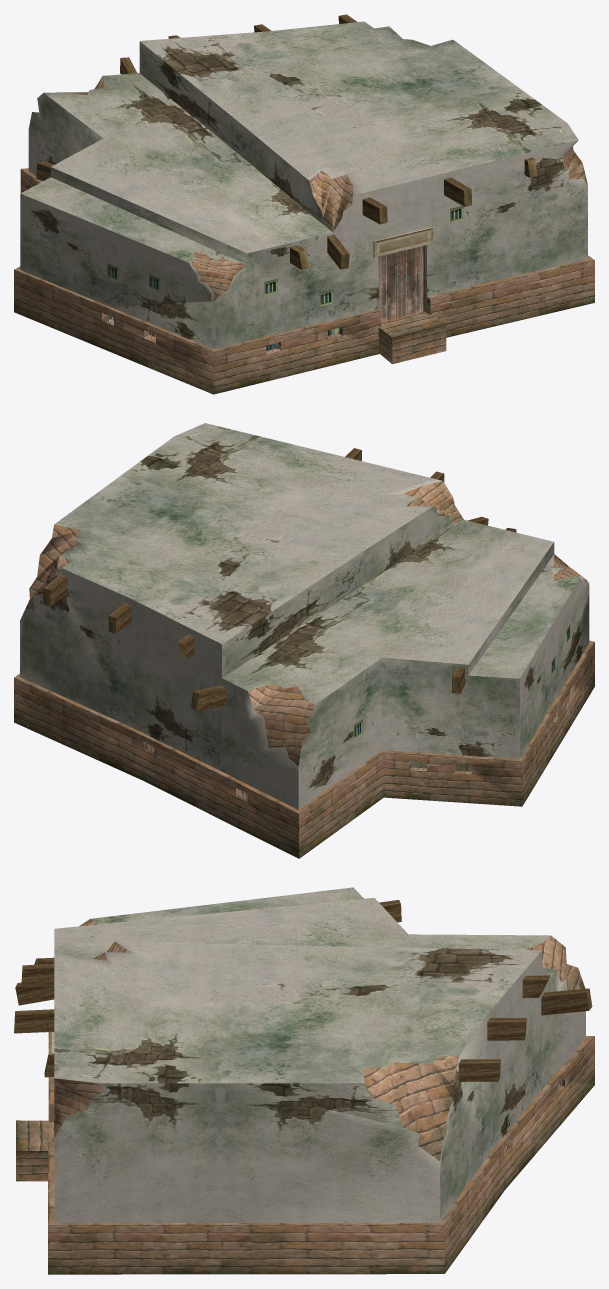
Rendered from pir_m_bld_spn_jail_destroyed.fbx.
3 views of the same model, one above another, from view 1: azimuth 30°, elevation 25°; view 2: azimuth 150°, elevation 25°; view 3: azimuth 270°, elevation 25° (orthographic). The views are drawn at different scales.
Parts seen in each view (by area): view 1: building_exterior.001, jail_exteriorbase, door_left, base02, beam_15, beam_8, beam_10, beam_9; view 2: building_exterior.001, jail_exteriorbase, beam_6, beam_5; view 3: building_exterior.001, jail_exteriorbase, base02, beam_6, beam_5, beam_8, beam_4, beam_9, beam_10, beam_3.
Boxes of the visible parts, x1,y1,x2,y2 form: building_exterior.001: [20, 21, 587, 349]; jail_exteriorbase: [14, 168, 594, 394]; door_left: [378, 245, 424, 321]; base02: [378, 311, 446, 363]; beam_15: [373, 227, 433, 257]; beam_8: [444, 177, 472, 206]; beam_10: [327, 234, 349, 269]; beam_9: [362, 197, 387, 224]; building_exterior.001: [20, 423, 589, 809]; jail_exteriorbase: [14, 640, 594, 858]; beam_6: [191, 685, 226, 710]; beam_5: [43, 574, 67, 606]; building_exterior.001: [54, 887, 585, 1223]; jail_exteriorbase: [48, 1032, 594, 1274]; base02: [16, 1120, 54, 1181]; beam_6: [541, 988, 592, 1015]; beam_5: [458, 1059, 500, 1081]; beam_8: [14, 1009, 54, 1033]; beam_4: [487, 1018, 526, 1040]; beam_9: [21, 963, 54, 987]; beam_10: [15, 982, 54, 1005]; beam_3: [522, 975, 550, 998].
Bounding box in the file's own units: 6565 × 2300 × 6419.
Materials: 2 (2 with a texture image).
